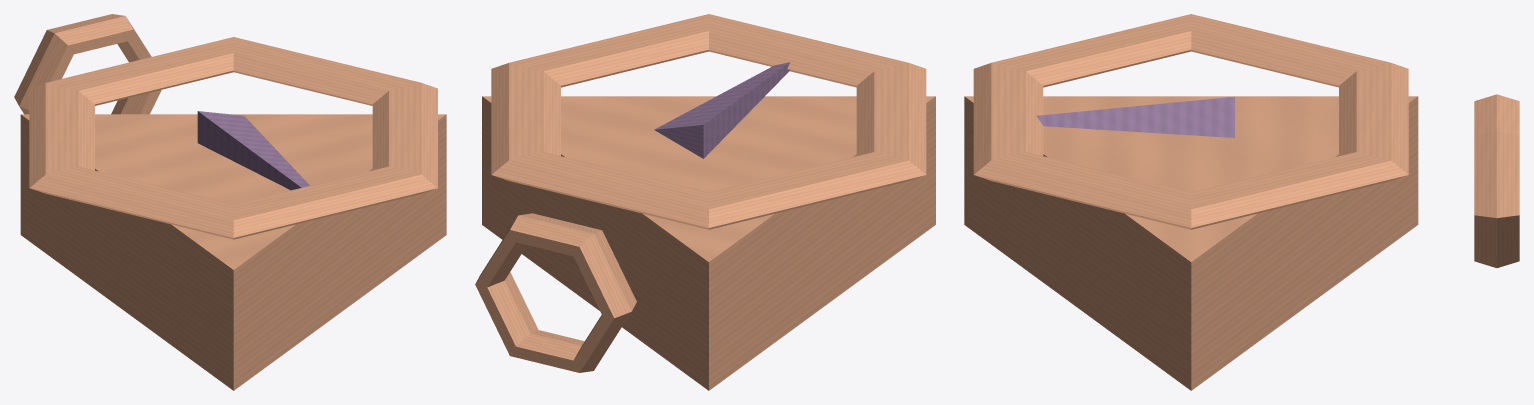
File: atlas100-s088-a05.lod1.glb
The picture shows the model from 3 angles, left to right: view 1: azimuth 30°, elevation 25°; view 2: azimuth 150°, elevation 25°; view 3: azimuth 270°, elevation 25°; orthographic projection. The views are drawn at different scales.
Visible parts, largest first — view 1: atlas100-s088-a05:part-000, atlas100-s088-a05:part-003, atlas100-s088-a05:part-004, atlas100-s088-a05:part-002; view 2: atlas100-s088-a05:part-000, atlas100-s088-a05:part-003, atlas100-s088-a05:part-004, atlas100-s088-a05:part-002; view 3: atlas100-s088-a05:part-000, atlas100-s088-a05:part-003, atlas100-s088-a05:part-004, atlas100-s088-a05:part-002.
Part boxes in pixels (x1,y1,x2,y2): atlas100-s088-a05:part-000: (20,114,446,390); atlas100-s088-a05:part-003: (29,37,437,239); atlas100-s088-a05:part-004: (14,14,161,114); atlas100-s088-a05:part-002: (197,111,309,190); atlas100-s088-a05:part-000: (482,96,935,390); atlas100-s088-a05:part-003: (491,14,926,229); atlas100-s088-a05:part-004: (475,213,636,372); atlas100-s088-a05:part-002: (654,62,790,158); atlas100-s088-a05:part-000: (964,96,1418,390); atlas100-s088-a05:part-003: (973,14,1408,229); atlas100-s088-a05:part-004: (1474,94,1519,267); atlas100-s088-a05:part-002: (1036,96,1234,137).
Size of the model in its own units: 0.5132 by 0.1936 by 0.5554.
2 materials, 2 textured.
